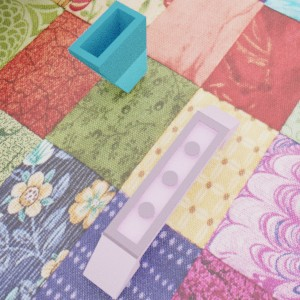lego: (82, 104, 241, 299), (67, 0, 147, 93)
